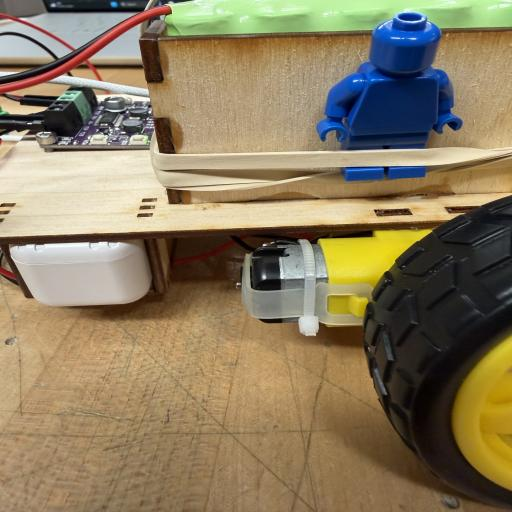Blue-Lego: (317, 12, 463, 150), (341, 164, 426, 181)
